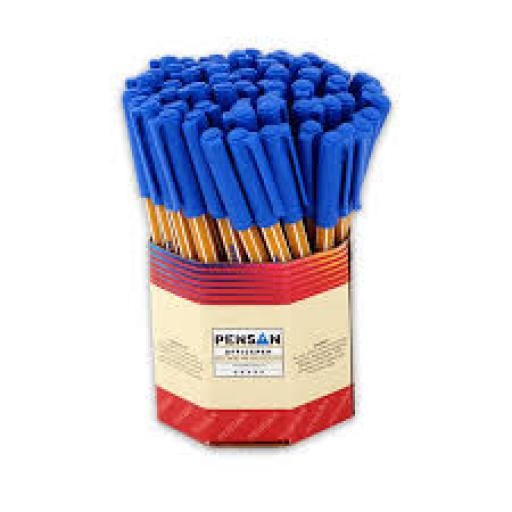tukenmez-kalem: (97, 34, 471, 277)
